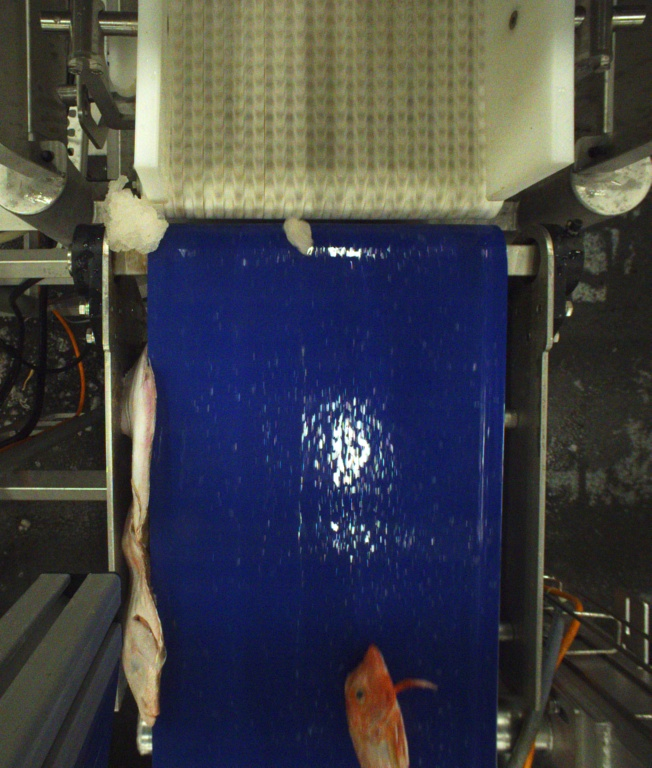GUU: (339, 645, 440, 768)
